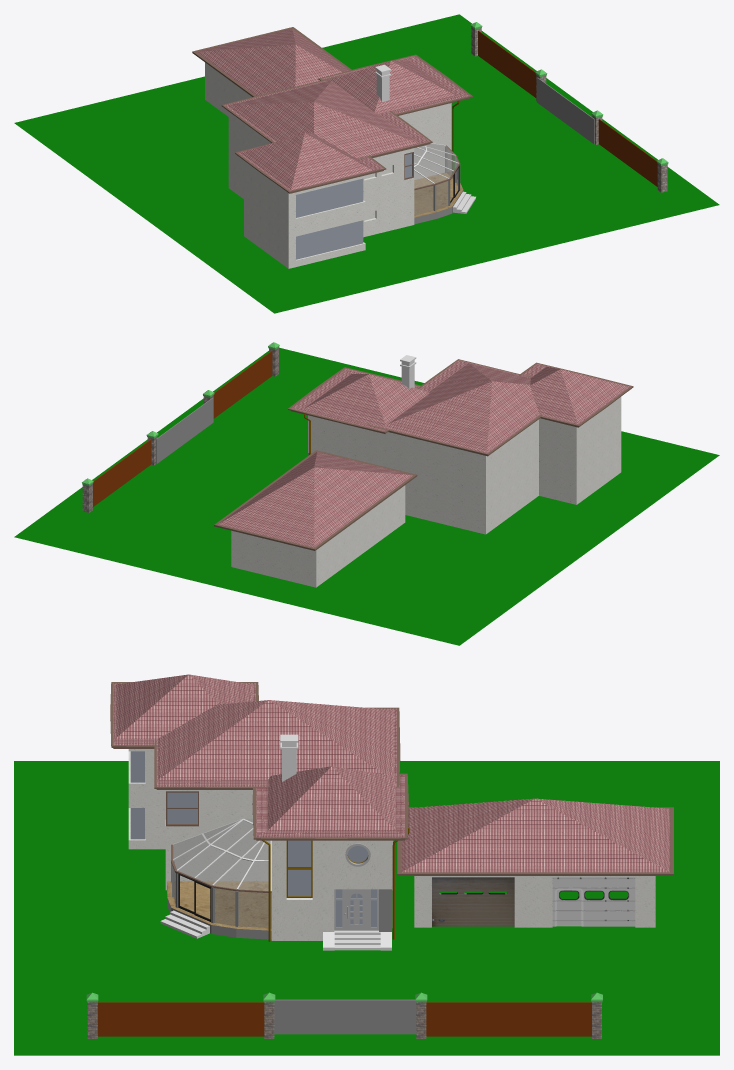
The model's file is house02.obj.
3 renders of one model, top to bottom at view 1: azimuth 30°, elevation 25°; view 2: azimuth 150°, elevation 25°; view 3: azimuth 270°, elevation 25°, orthographic. The views are drawn at different scales.
Parts seen in each view (by area): view 1: Plane008, roof1, Object004, dom3d1, vokne3, Dom, zimni_sad, zimnypol, Box005, Box007, Box006, garaji (+2 smaller); view 2: Plane008, roof1, dom3d1, garaji, Object004, Dom, Box005, Box007, Box006; view 3: Plane008, roof1, Object005, Dom, dom3d1, Box005, Box007, zimni_sad, Box006, garaji, zimnypol, Object004 (+10 smaller).
Part boxes in pixels (x1,y1,x2,y2): Plane008: (14, 14, 719, 313); roof1: (192, 27, 472, 193); Object004: (244, 160, 365, 268); dom3d1: (228, 112, 414, 237); vokne3: (296, 178, 363, 259); Dom: (398, 103, 451, 179); zimni_sad: (414, 144, 460, 210); zimnypol: (414, 172, 463, 224); Box005: (598, 119, 657, 186); Box007: (478, 30, 536, 97); Box006: (537, 77, 594, 143); garaji: (205, 62, 252, 116); Plane008: (14, 347, 719, 645); roof1: (214, 359, 633, 550); dom3d1: (384, 419, 538, 534); garaji: (231, 485, 405, 587); Object004: (539, 397, 621, 504); Dom: (308, 415, 384, 466); Box005: (213, 351, 272, 418); Box007: (93, 439, 151, 506); Box006: (156, 397, 213, 464); Plane008: (14, 761, 719, 1055); roof1: (110, 674, 673, 875); Object005: (432, 877, 635, 926); Dom: (271, 840, 392, 940); dom3d1: (165, 790, 393, 890); Box005: (97, 1002, 264, 1036); Box007: (426, 1002, 591, 1036); zimni_sad: (171, 818, 271, 928); Box006: (274, 999, 416, 1034); garaji: (414, 876, 655, 927); zimnypol: (167, 881, 271, 939); Object004: (128, 749, 165, 849).
Bounding box in the file's own units: 338 × 86.99 × 343.
